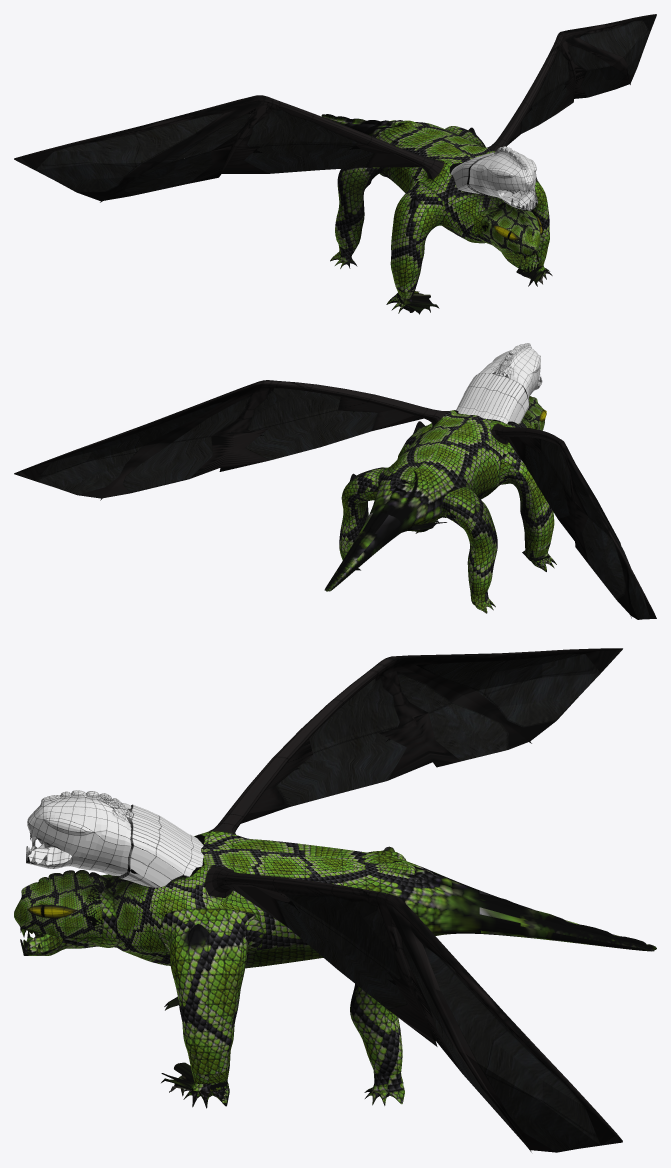
The model's file is monster_000030.obj.
3 renders of one model, top to bottom at view 1: azimuth 30°, elevation 25°; view 2: azimuth 150°, elevation 25°; view 3: azimuth 270°, elevation 25°, orthographic. The views are drawn at different scales.
Visible parts, largest first — view 1: body_Cube, secondHead_Cube.002; view 2: body_Cube, secondHead_Cube.002; view 3: body_Cube, secondHead_Cube.002.
Boxes of the visible parts, x1=… form: body_Cube: x1=14, y1=14, x2=656, y2=314; secondHead_Cube.002: x1=450, y1=146, x2=537, y2=210; body_Cube: x1=14, y1=380, x2=656, y2=619; secondHead_Cube.002: x1=456, y1=343, x2=542, y2=423; body_Cube: x1=14, y1=648, x2=656, y2=1152; secondHead_Cube.002: x1=26, y1=790, x2=203, y2=887.
Bounding box in the file's own units: 9.62 × 2.7 × 5.51.
